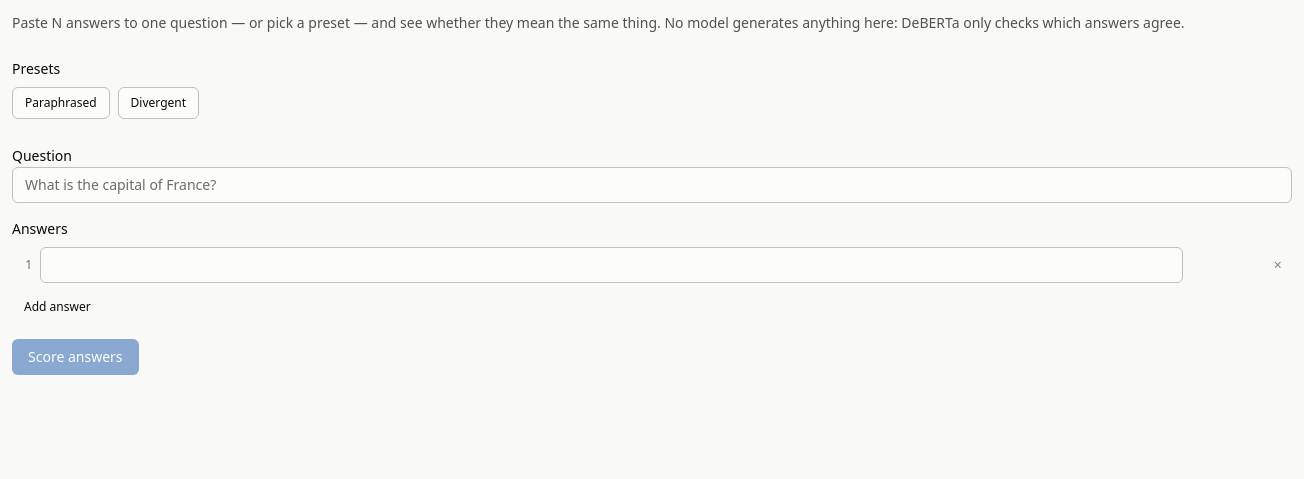
it: ScoreTab › says the first request loads DeBERTa while it waits
This screenshot has width=1304, height=479.
Click the button "paraphrased" at (61, 103), box top-left (12, 87), bottom-right (110, 119)
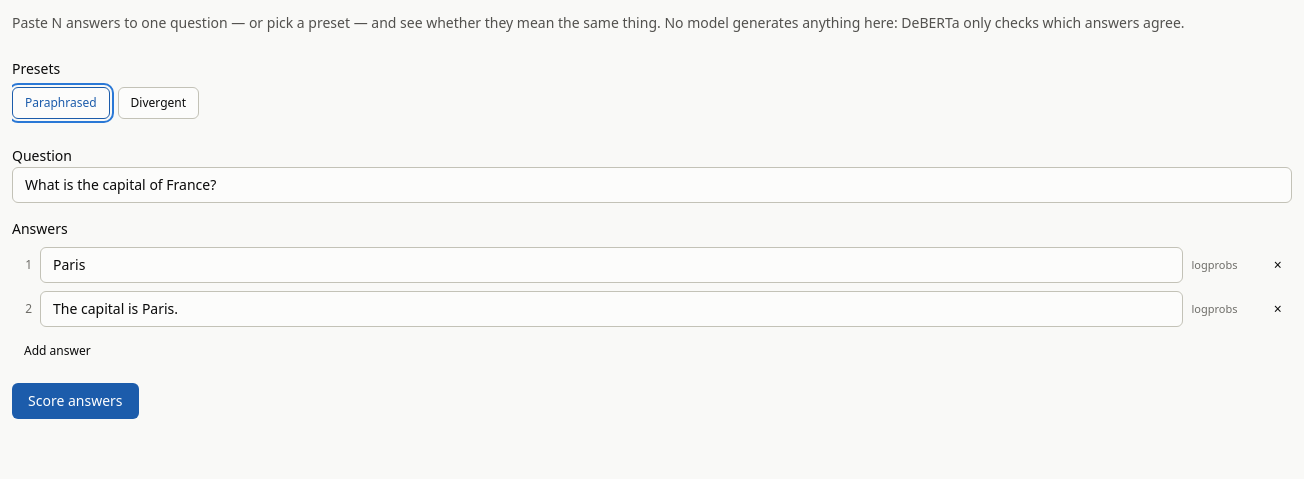
Click the button "Score answers" at (75, 401), box top-left (12, 383), bottom-right (138, 419)
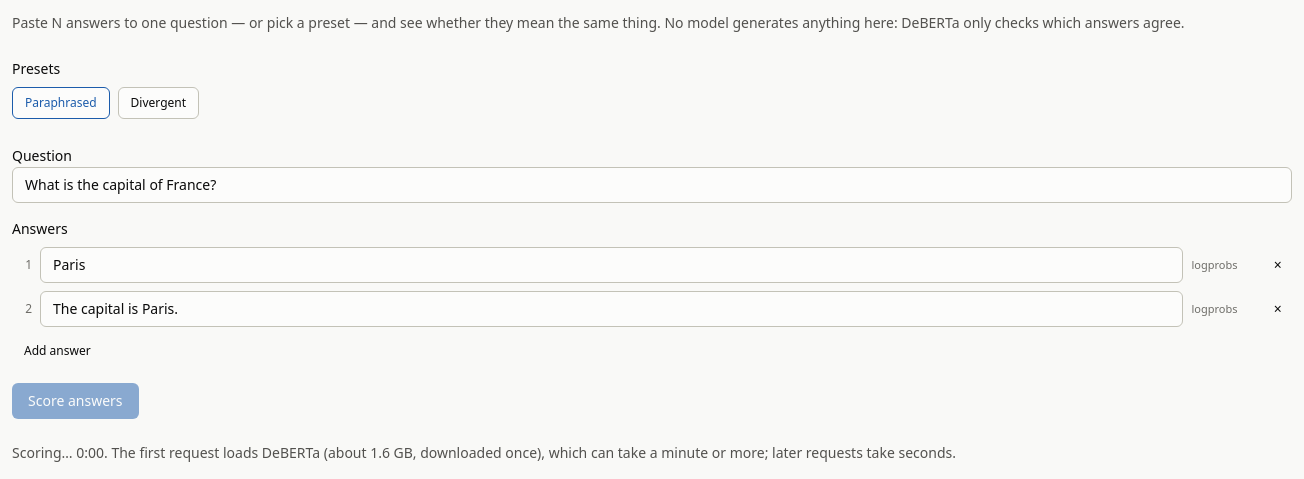
Now the message named "Scoring progress" shows "DeBERTa", box top-left (104, 443), bottom-right (956, 462)
Now the button "Score answers" is disabled, box top-left (12, 383), bottom-right (138, 419)
